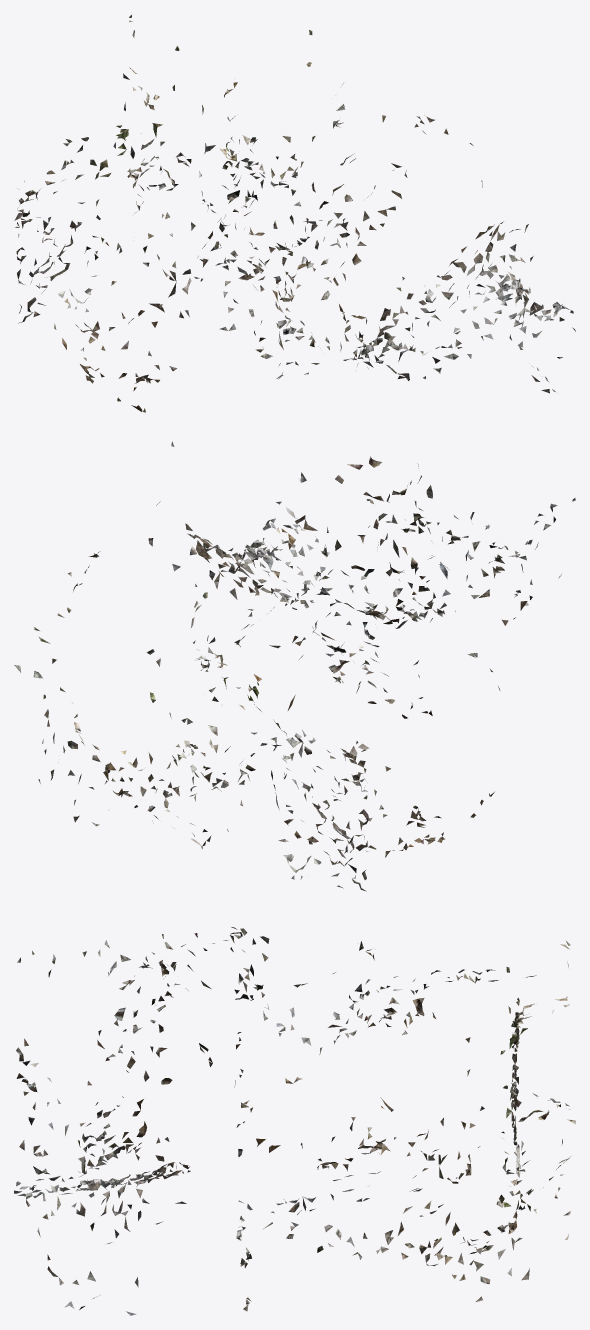
3 views of the same model, one above another, from view 1: azimuth 30°, elevation 25°; view 2: azimuth 150°, elevation 25°; view 3: azimuth 270°, elevation 25° (orthographic). The views are drawn at different scales.
Bounding box in the file's own units: 4.57 × 3.35 × 6.02.
Materials: 1 (1 with a texture image).
